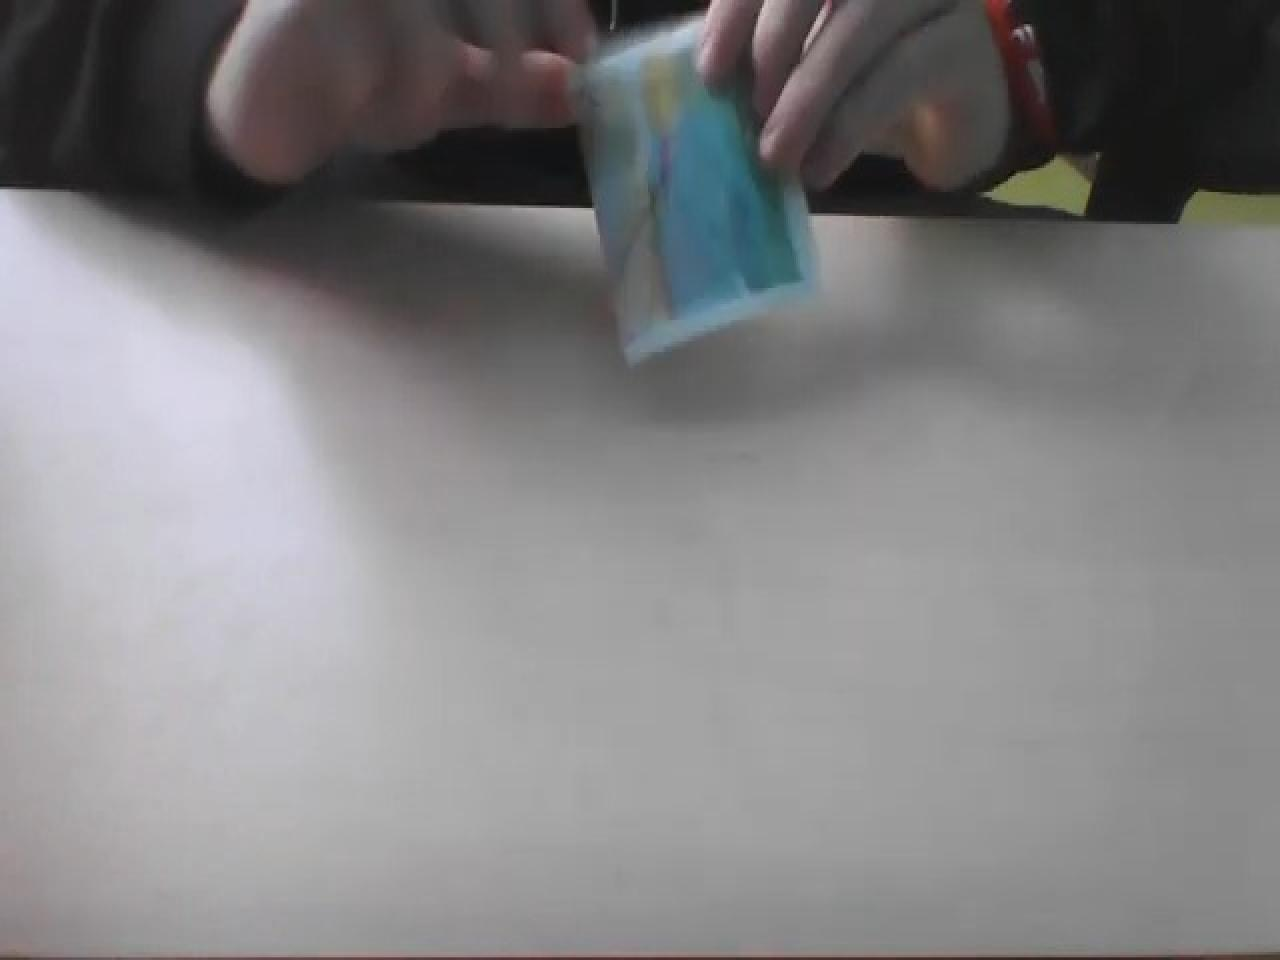100leva: (578, 0, 820, 368)
